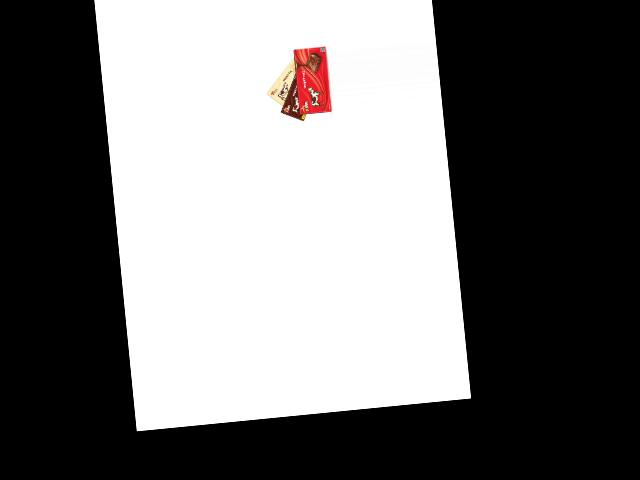chocolate: (262, 51, 305, 114)
